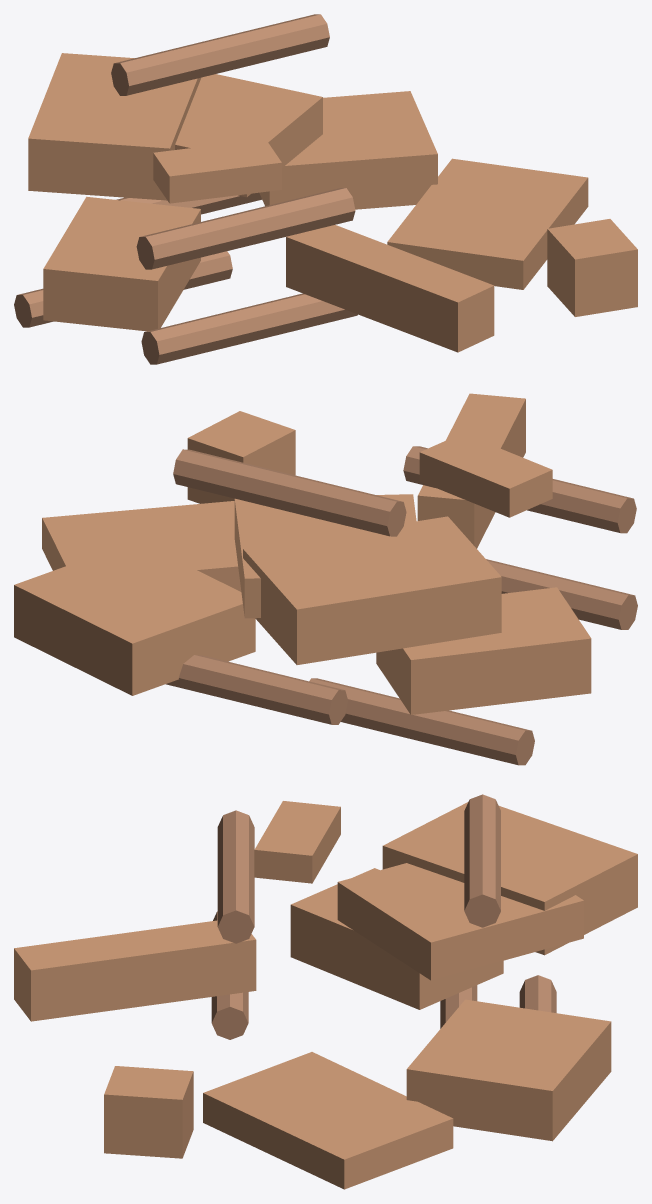
File: scrap_pile_05.glb
3 views of the same model, one above another, from view 1: azimuth 30°, elevation 25°; view 2: azimuth 150°, elevation 25°; view 3: azimuth 270°, elevation 25° (orthographic). The views are drawn at different scales.
Visible parts, largest first — view 1: scrap7, scrap11, scrap5, scrap10, scrap1, scrap8, pipe3, pipe9, scrap4, pipe12, scrap2, pipe6 (+1 smaller); view 2: scrap7, scrap1, scrap10, scrap11, pipe3, scrap2, pipe6, pipe0, scrap5, scrap8, scrap4, pipe12 (+1 smaller); view 3: scrap1, scrap11, scrap5, scrap8, scrap7, scrap10, scrap4, scrap2, pipe9, pipe3, pipe12, pipe0 (+1 smaller).
Part boxes in pixels (box(x1,y1,x2,y2)): scrap7: box(28, 53, 200, 200); scrap11: box(387, 158, 588, 289); scrap5: box(286, 225, 494, 352); scrap10: box(43, 196, 200, 331); scrap1: box(259, 91, 437, 209); scrap8: box(175, 74, 322, 197); pipe3: box(111, 14, 329, 95); pipe9: box(136, 188, 355, 269); scrap4: box(547, 219, 637, 316); pipe12: box(141, 293, 357, 364); scrap2: box(153, 139, 281, 203); pipe6: box(14, 251, 232, 327); scrap7: box(243, 516, 501, 664); scrap1: box(14, 540, 255, 695); scrap10: box(376, 587, 591, 714); scrap11: box(42, 501, 241, 591); pipe3: box(173, 449, 406, 536); scrap2: box(419, 433, 552, 517); pipe6: box(309, 678, 534, 765); pipe0: box(166, 655, 347, 724); scrap5: box(417, 393, 525, 548); scrap8: box(234, 494, 416, 618); scrap4: box(187, 411, 295, 503); pipe12: box(486, 559, 637, 629); scrap1: box(406, 999, 611, 1141); scrap11: box(203, 1052, 453, 1189); scrap5: box(14, 920, 256, 1021); scrap8: box(337, 863, 583, 980); scrap7: box(382, 802, 637, 955); scrap10: box(290, 868, 503, 1009); scrap4: box(104, 1066, 193, 1158); scrap2: box(254, 801, 340, 883); pipe9: box(217, 810, 254, 943); pipe3: box(464, 794, 500, 927); pipe12: box(211, 911, 248, 1039); pipe0: box(519, 975, 556, 1013).
Size of the model in its own units: 1.19 by 0.4909 by 1.19.
